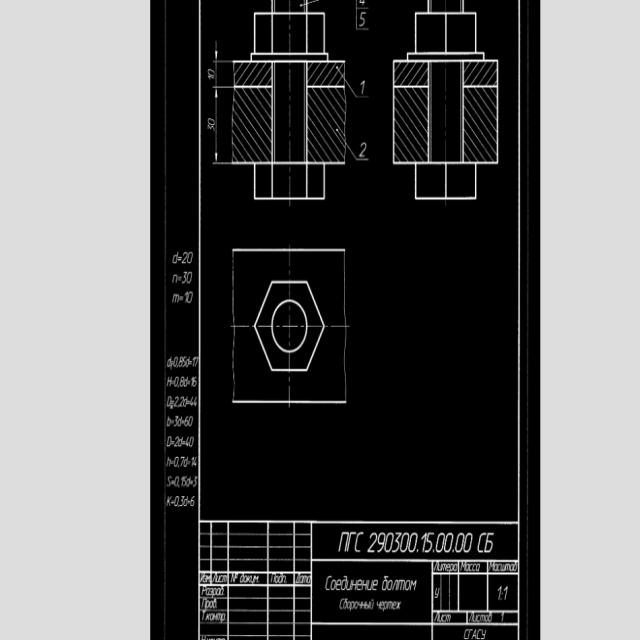marking_line: (215, 89, 219, 161), (212, 40, 218, 59)
numeric: (369, 532, 417, 553), (454, 532, 472, 555), (434, 530, 451, 554), (496, 583, 511, 604), (180, 271, 193, 287), (422, 533, 432, 553), (357, 140, 367, 160), (182, 249, 192, 267), (206, 116, 215, 133), (359, 10, 367, 28), (185, 289, 194, 305), (205, 68, 215, 82), (190, 395, 199, 409), (185, 437, 195, 449), (361, 77, 367, 97), (190, 455, 198, 469), (190, 495, 197, 510), (186, 415, 194, 428), (192, 474, 199, 488), (191, 354, 198, 367), (191, 375, 198, 387)
special_symbol: (348, 145, 370, 164), (350, 84, 369, 101)
